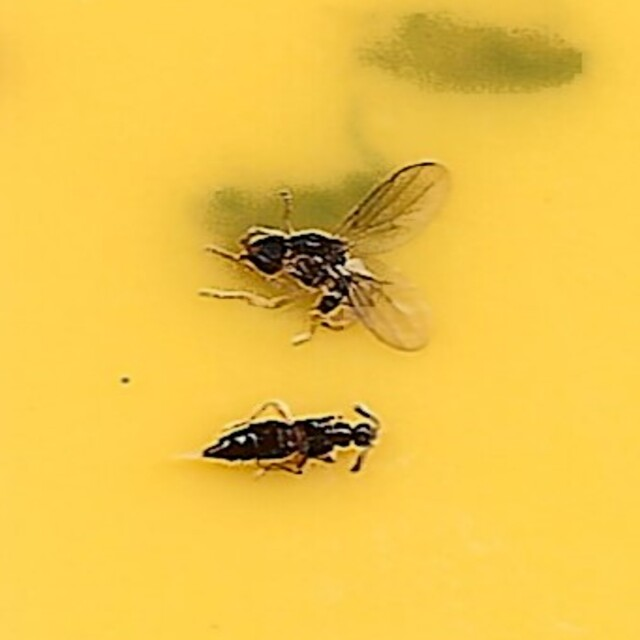Brachycera: (221, 156, 452, 354)
Coleoptera: (188, 393, 387, 484)
